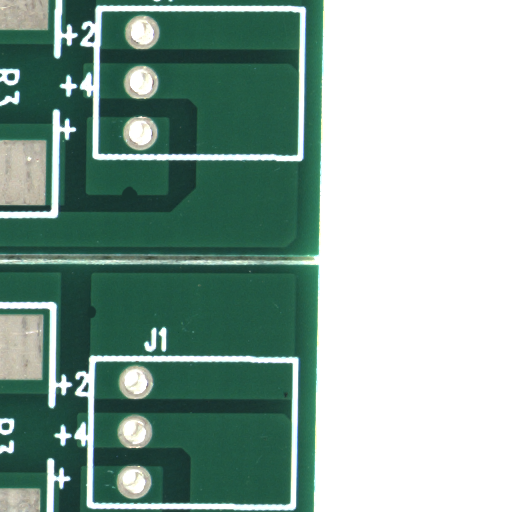Mouse_bite: (129, 191, 143, 202), (93, 312, 101, 327)
